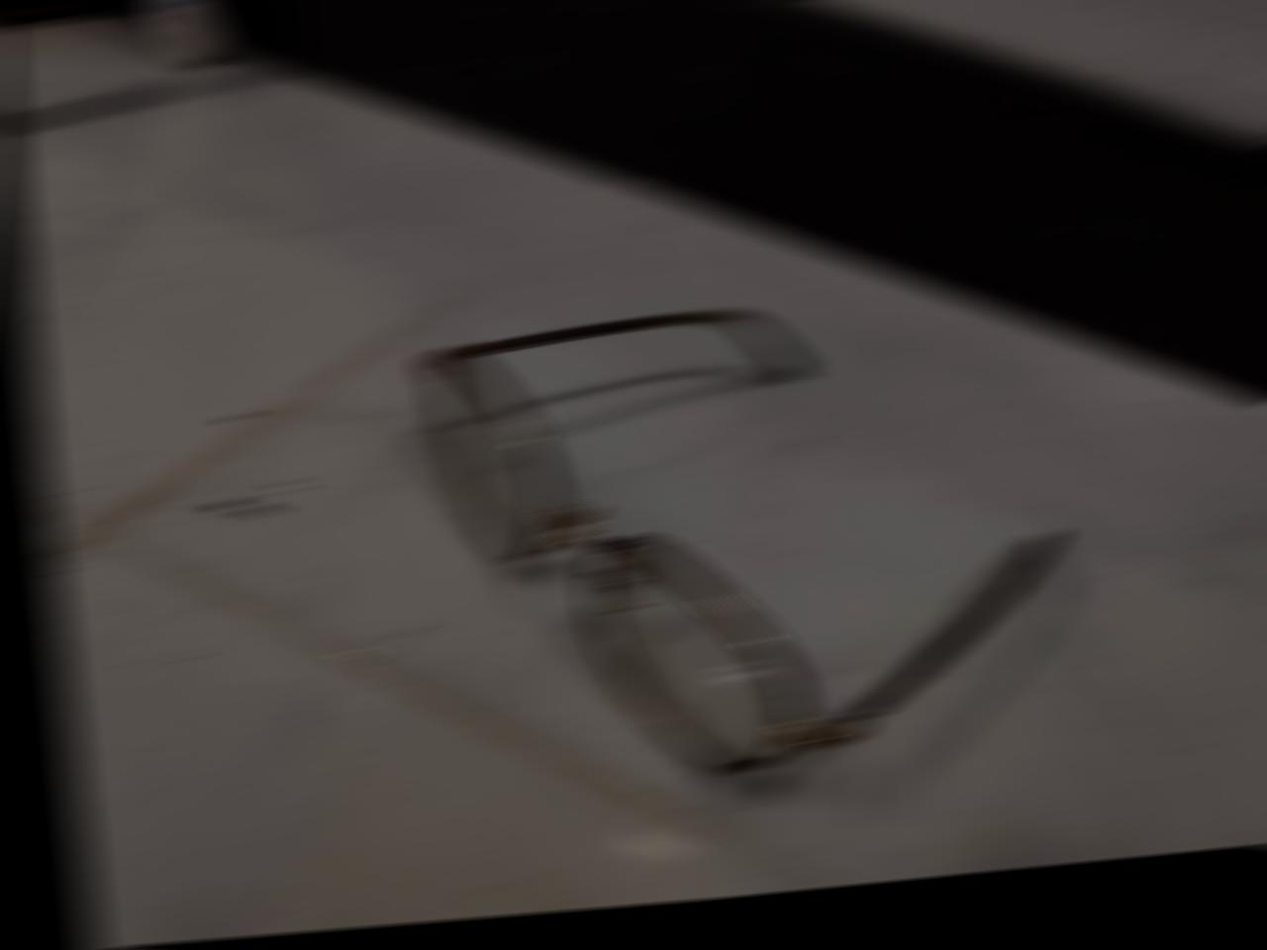glasses: (400, 264, 1093, 815)
